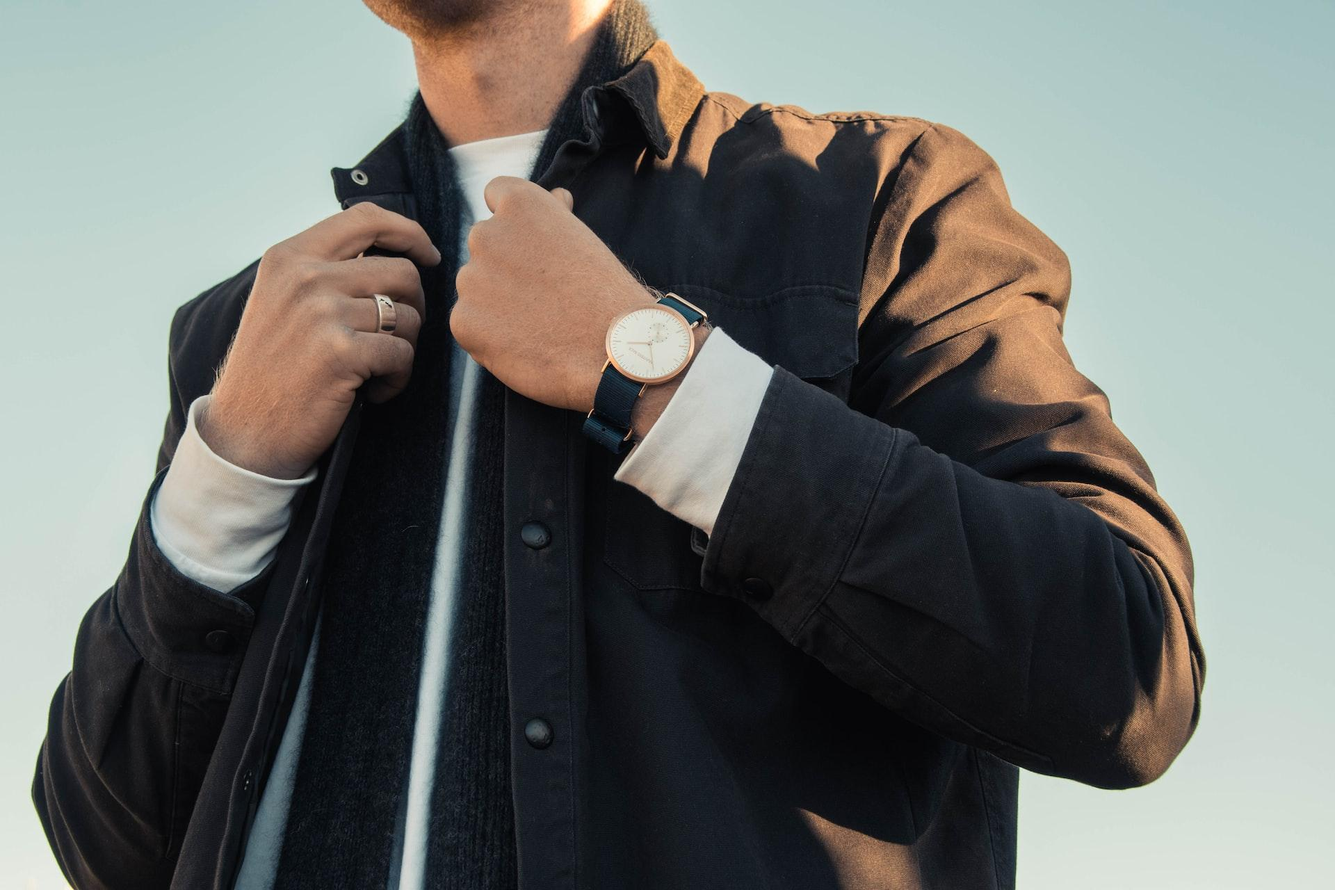watch: (585, 284, 705, 450)
